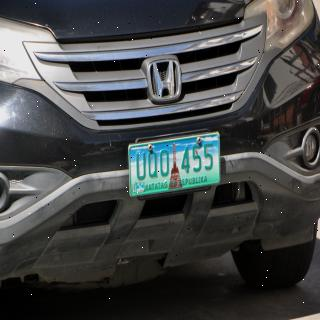license: (130, 134, 221, 198)
